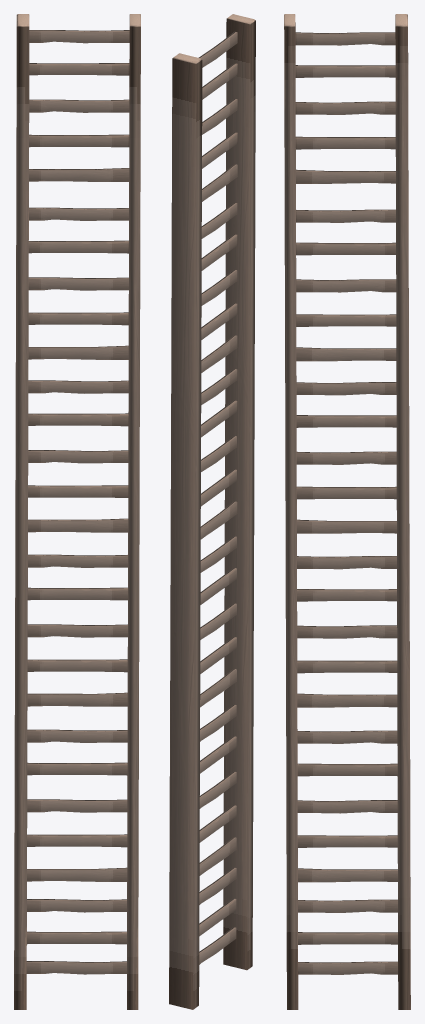
The model's file is SM_LadderChurchShort.fbx.
The picture shows the model from 3 angles, left to right: view 1: azimuth 90°, elevation 25°; view 2: azimuth 150°, elevation 25°; view 3: azimuth 270°, elevation 25°; orthographic projection. The views are drawn at different scales.
Visible parts, largest first — view 1: SM_LadderChurchShort_LOD0; view 2: SM_LadderChurchShort_LOD0; view 3: SM_LadderChurchShort_LOD0.
Part boxes in pixels (x1=…): SM_LadderChurchShort_LOD0: x1=14, y1=14, x2=140, y2=1009; SM_LadderChurchShort_LOD0: x1=169, y1=14, x2=255, y2=1009; SM_LadderChurchShort_LOD0: x1=284, y1=14, x2=410, y2=1009.
Size of the model in its own units: 23.84 by 96.96 by 830.
